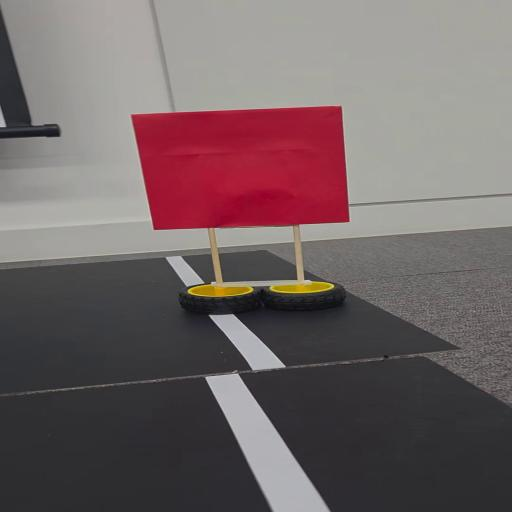Sign_A: (127, 100, 357, 318)
